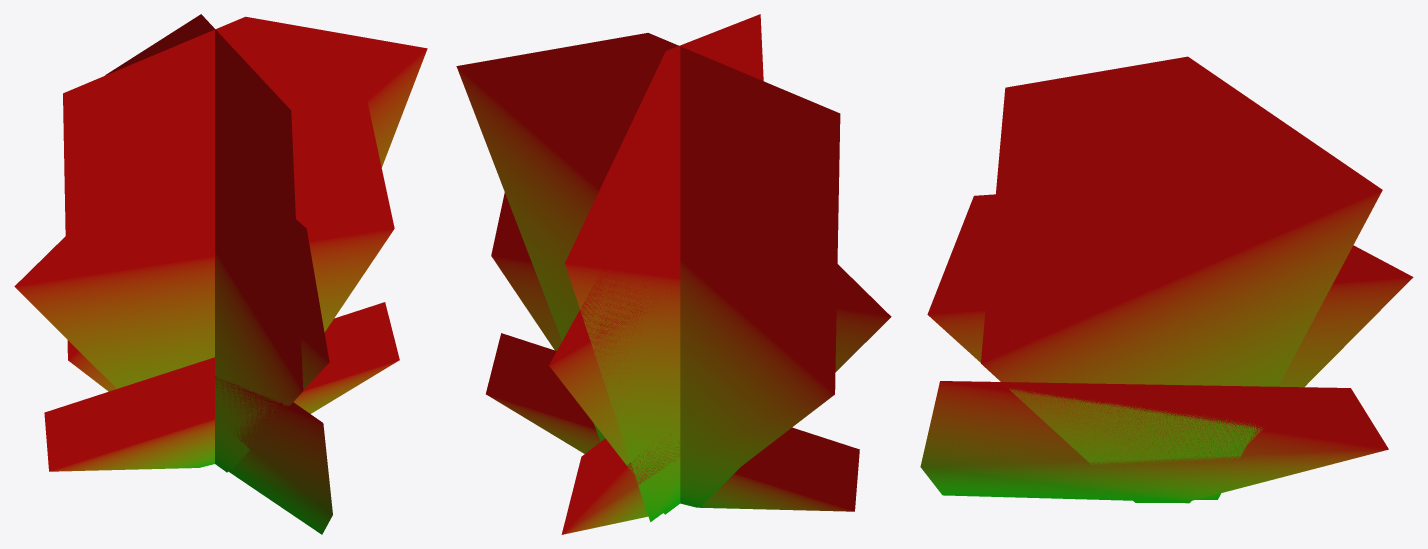
File: Xeric Grass_LOD6_Var6_xjfgdhaqx.fbx
3 views of the same model, side by side, from view 1: azimuth 30°, elevation 25°; view 2: azimuth 150°, elevation 25°; view 3: azimuth 270°, elevation 25° (orthographic). The views are drawn at different scales.
Visible parts, largest first — view 1: _7lot_Var6_LOD6; view 2: _7lot_Var6_LOD6; view 3: _7lot_Var6_LOD6.
Part boxes in pixels (bbox=[...]): _7lot_Var6_LOD6: bbox=[14, 14, 427, 534]; _7lot_Var6_LOD6: bbox=[456, 14, 891, 534]; _7lot_Var6_LOD6: bbox=[920, 56, 1413, 503].
Size of the model in its own units: 354 by 360 by 361.
